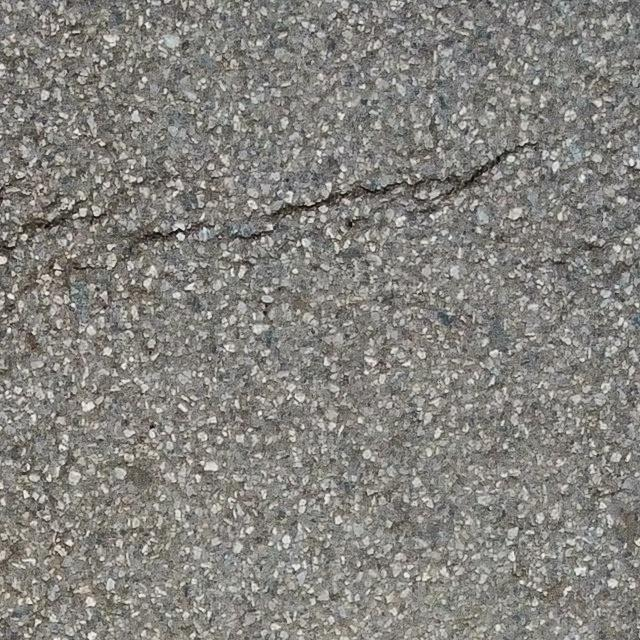TransverseCrack: (122, 141, 533, 255)
